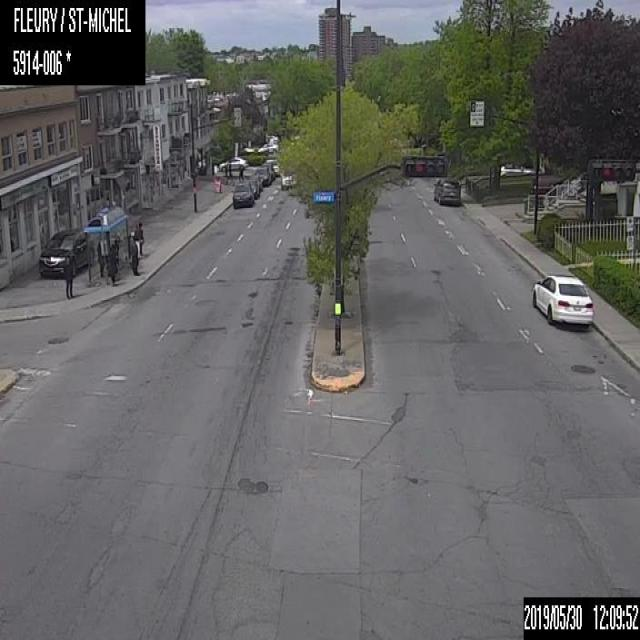pedestrian: (62, 252, 74, 299), (107, 241, 118, 286), (96, 231, 106, 278), (127, 229, 136, 276), (134, 220, 144, 258), (238, 163, 244, 181)
vehicle: (528, 270, 595, 330), (37, 226, 94, 274), (433, 177, 461, 207), (230, 182, 254, 208), (218, 154, 248, 170), (254, 166, 271, 184)
